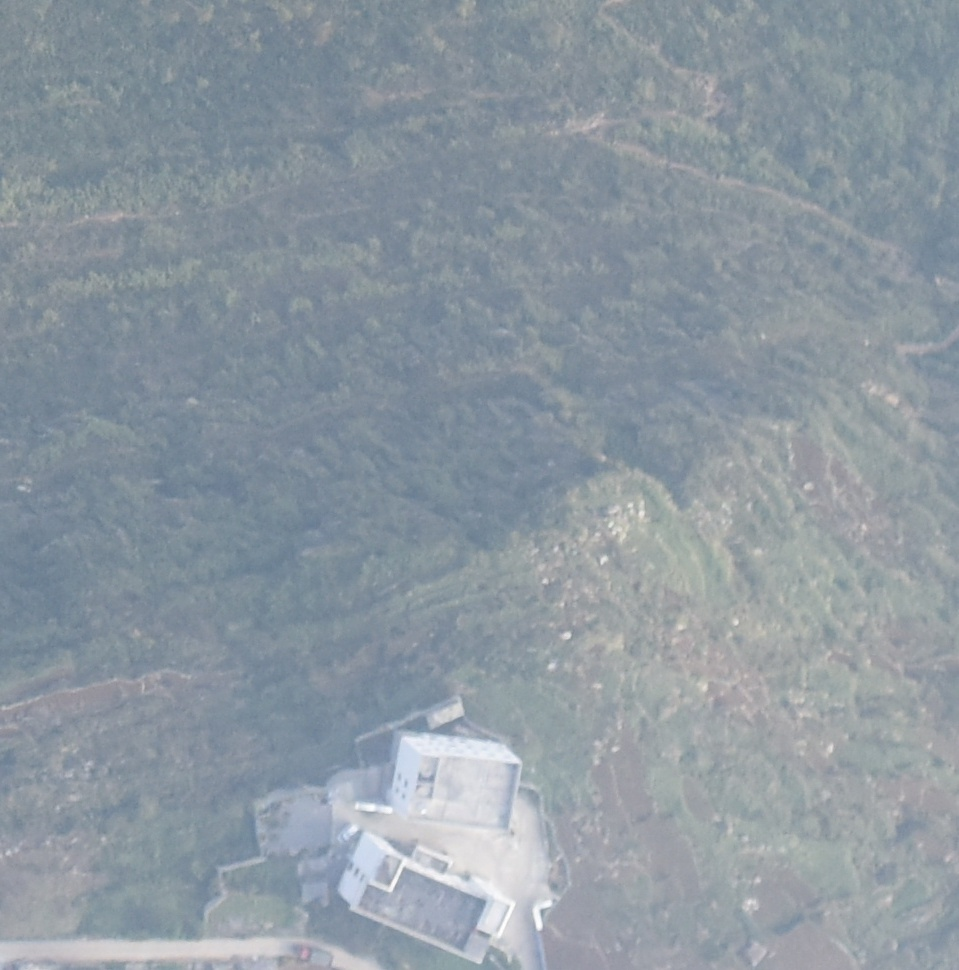building: (339, 826, 514, 964), (381, 730, 523, 832)
vehicle: (295, 945, 335, 967), (336, 821, 360, 846)
